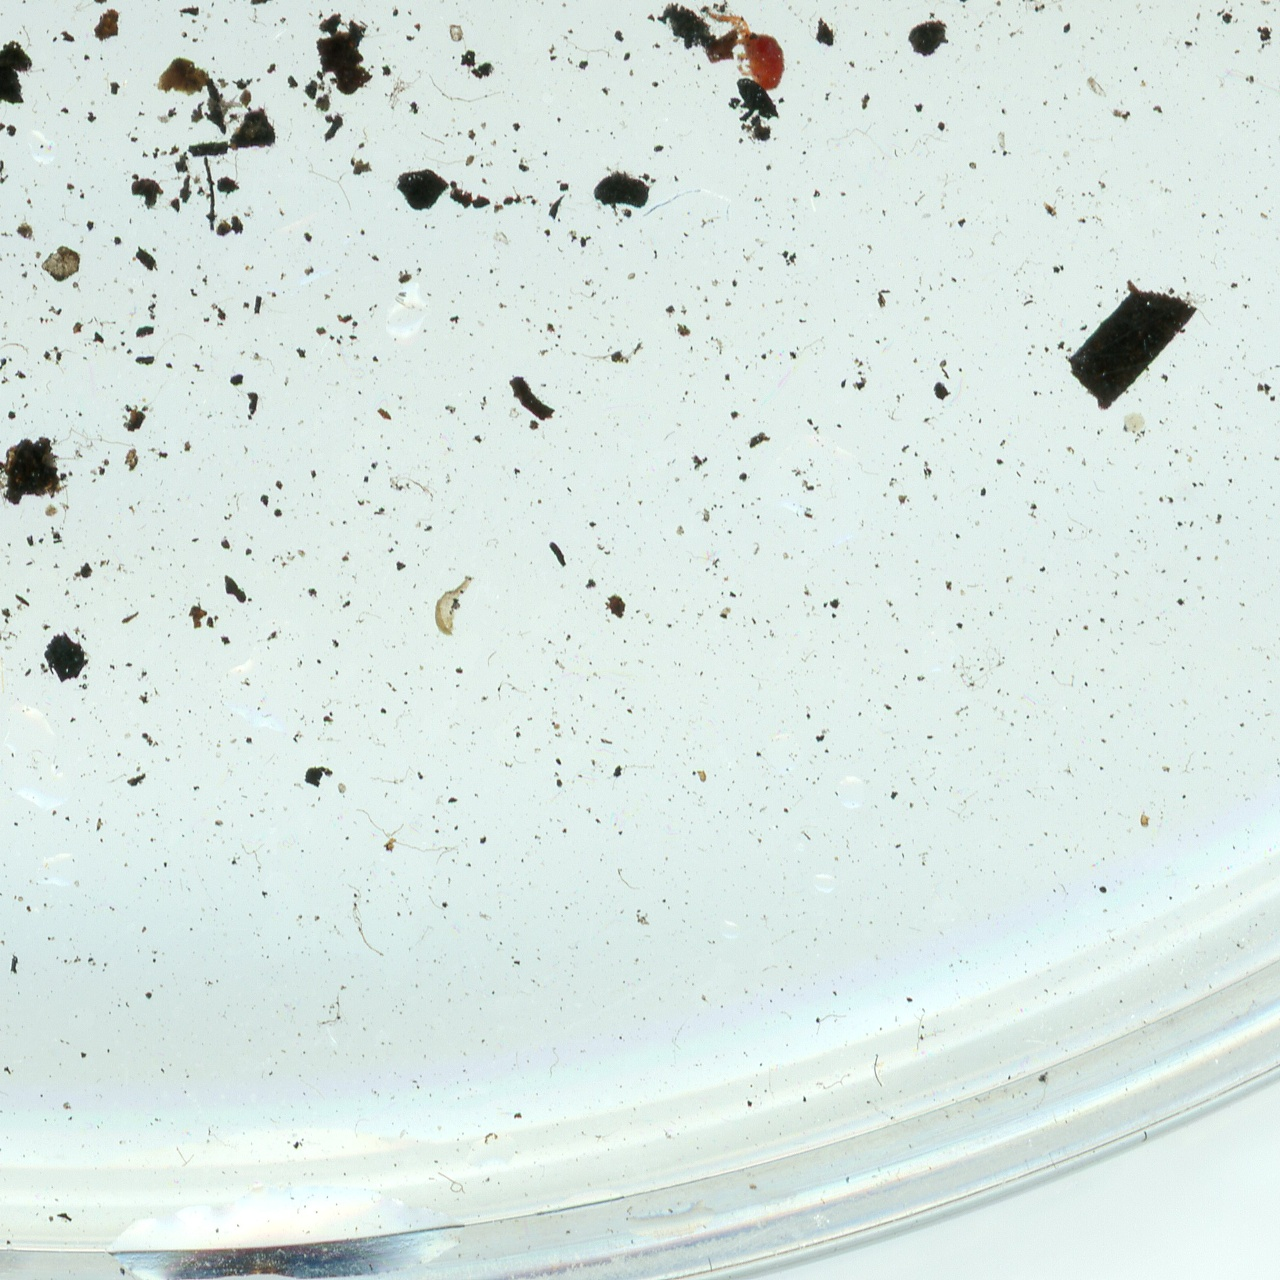arthropod: (695, 0, 806, 105)
